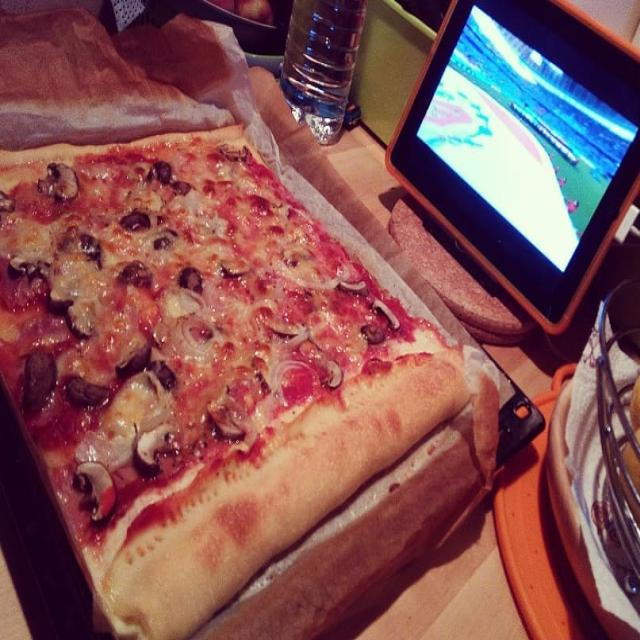mushrooms: (75, 453, 116, 527), (133, 423, 175, 476), (22, 349, 57, 410), (41, 158, 83, 206), (208, 397, 245, 449), (64, 370, 107, 409), (148, 159, 191, 198), (113, 337, 152, 378), (369, 296, 407, 334), (64, 305, 98, 345), (123, 208, 165, 235), (116, 258, 148, 290), (337, 269, 368, 298), (44, 275, 70, 309), (321, 353, 346, 387), (220, 256, 252, 282), (358, 321, 386, 349), (77, 232, 103, 258), (9, 251, 28, 276)
pizza: (0, 123, 474, 640)
